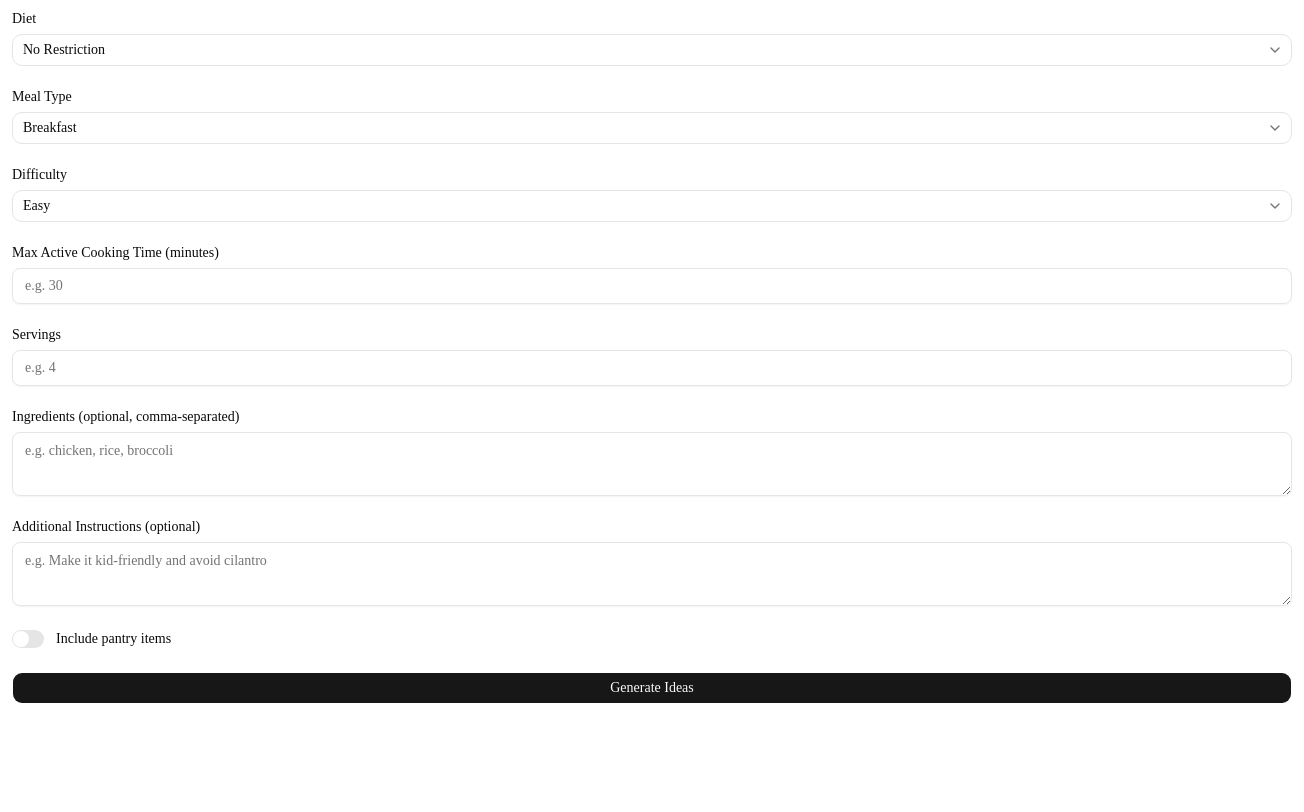
Test: ConstraintForm › rejects empty servings on submit
Note: Fill cooking time but leave servings empty
In the number field labelled "Max Active Cooking Time (minutes)": (652, 286) left=12, top=268, right=1292, bottom=304, type "30"
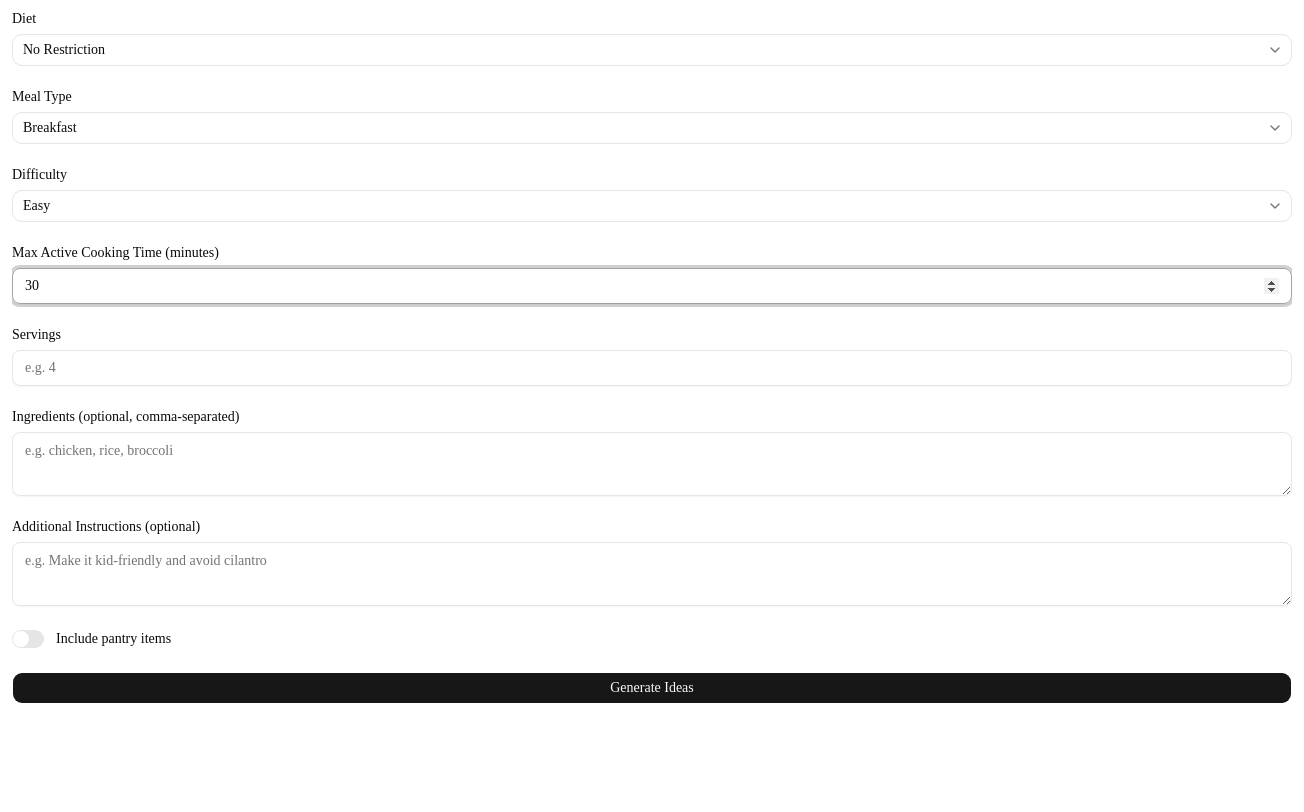
Click the button "Generate Ideas": (652, 688) left=12, top=672, right=1292, bottom=704
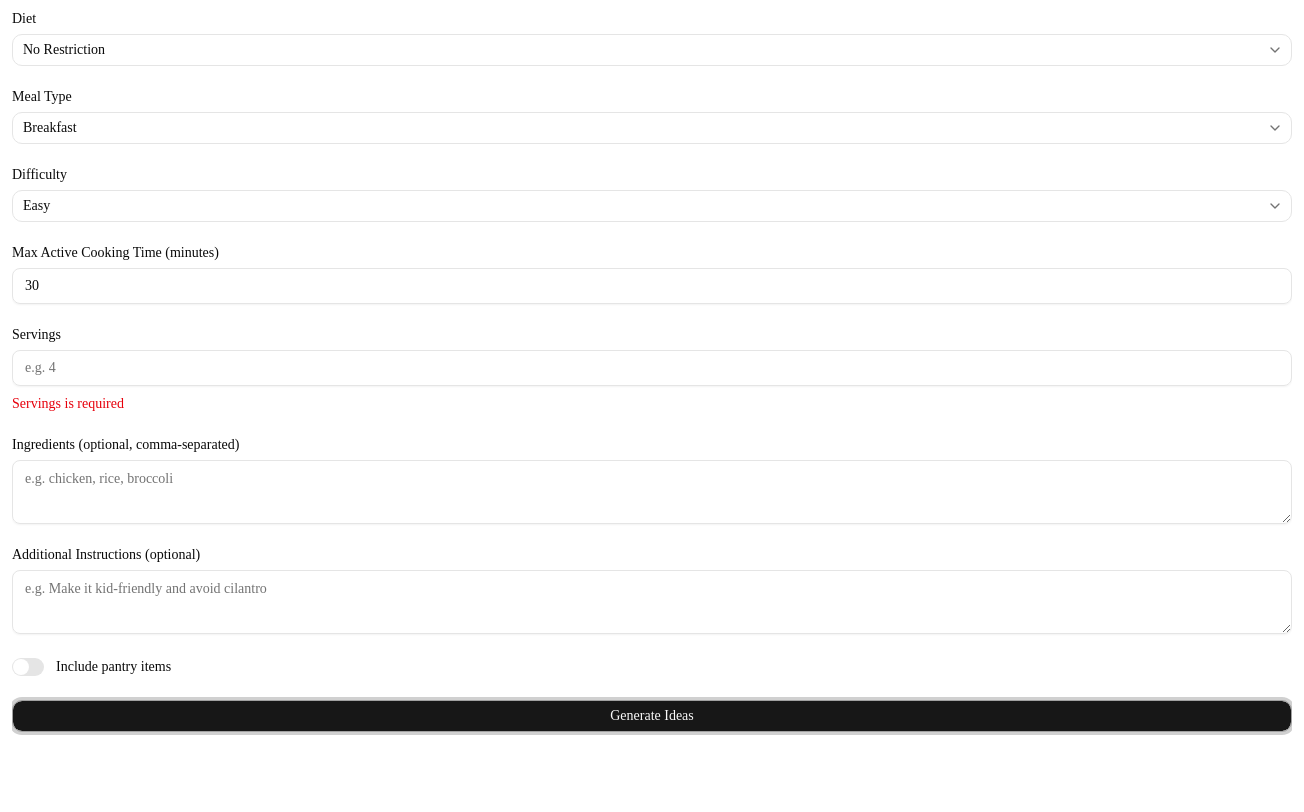
Result: the text "Servings is required" is shown at left=12, top=396, right=124, bottom=411
